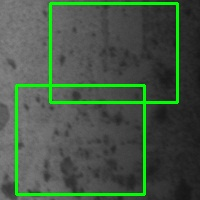pitted_surface: (16, 85, 144, 194), (50, 3, 177, 102)
